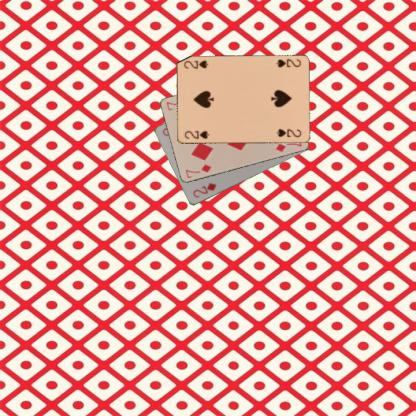2d: (190, 180, 217, 199)
2s: (182, 128, 210, 140), (274, 56, 301, 68)
7d: (182, 162, 212, 180)
